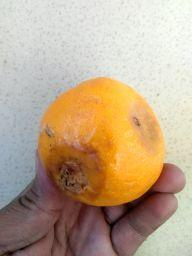Unripe: (37, 78, 164, 208)
